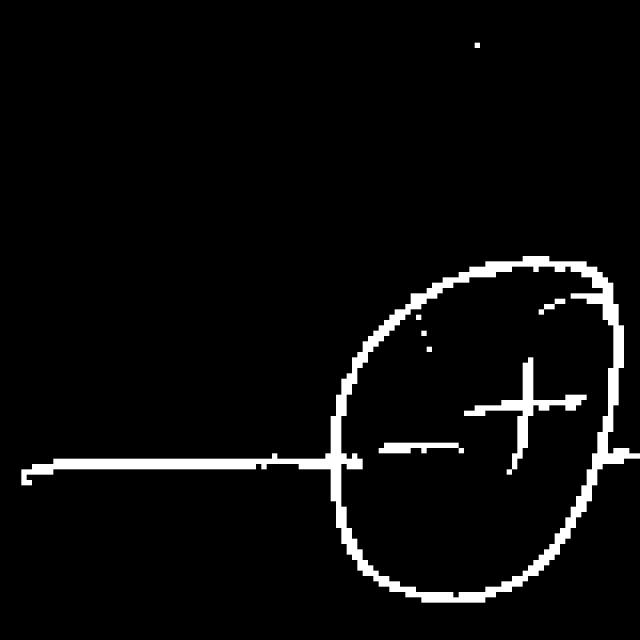voltage_source: (310, 240, 630, 618)
